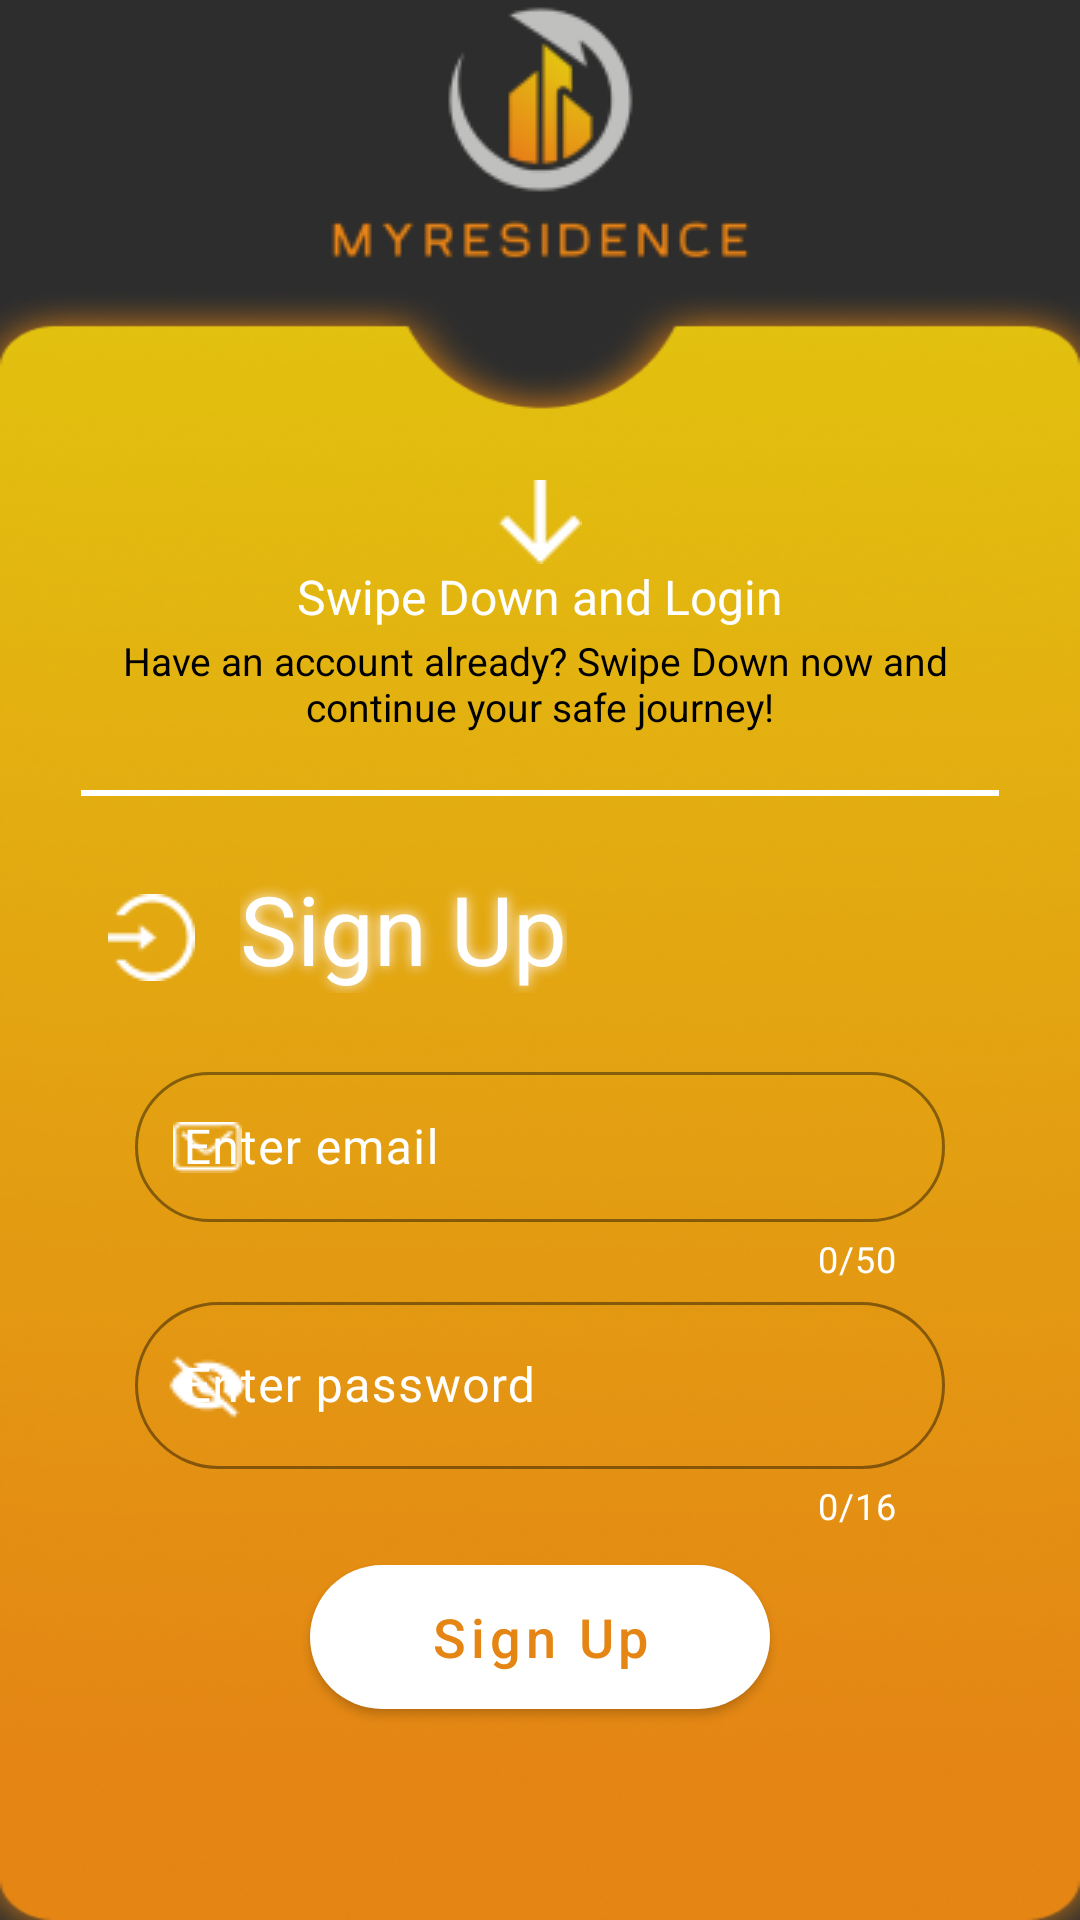

Point at icon controls on the screen. Image size 1080 × 1920, points as (x,y).
downward arrow: (540,522)
